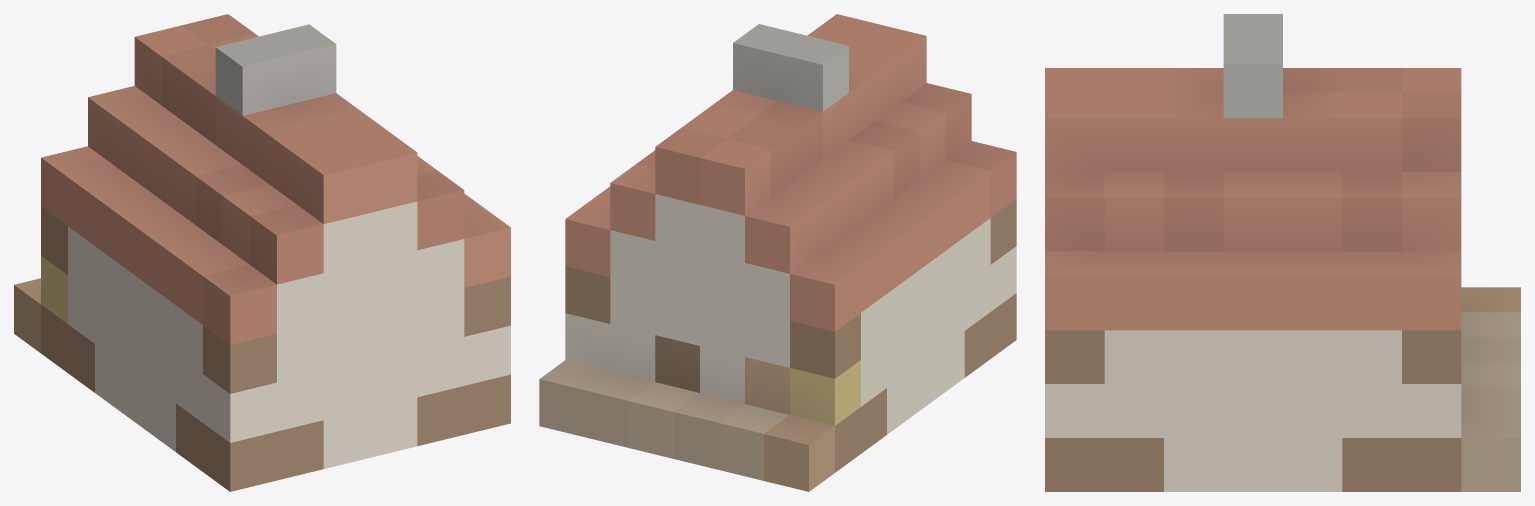
The model's file is tannery.lite.glb.
3 renders of one model, left to right at view 1: azimuth 30°, elevation 25°; view 2: azimuth 150°, elevation 25°; view 3: azimuth 270°, elevation 25°, orthographic. The views are drawn at different scales.
Visible parts, largest first — view 1: tannery; view 2: tannery; view 3: tannery.
Boxes of the visible parts, x1,y1,x2,y2 form: tannery: [14, 14, 510, 491]; tannery: [539, 14, 1016, 491]; tannery: [1045, 14, 1520, 491].
Size of the model in its own units: 3 by 3.5 by 4.
